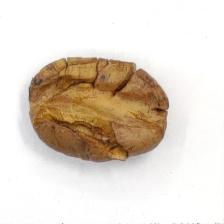NG: (29, 56, 165, 158)
